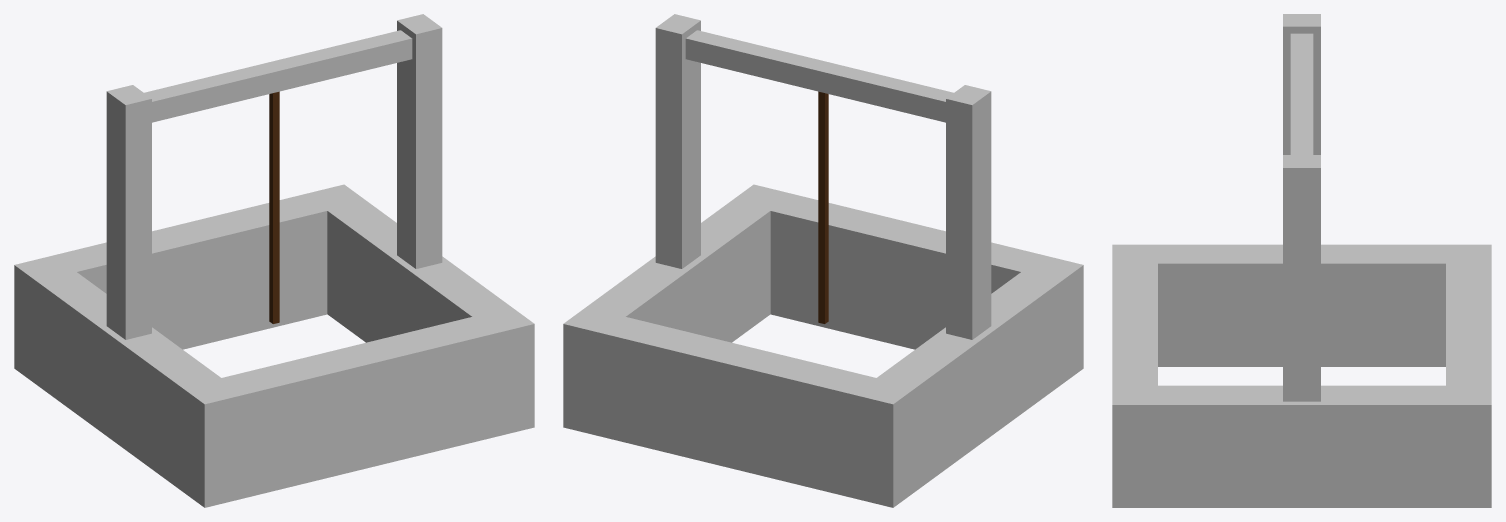
The model's file is well.obj.
The picture shows the model from 3 angles, left to right: view 1: azimuth 30°, elevation 25°; view 2: azimuth 150°, elevation 25°; view 3: azimuth 270°, elevation 25°; orthographic projection.
Visible parts, largest first — view 1: Rim.001, Rim, Rim.002, Rim.003, Posts, Posts.001, Bar, Rope [hang]; view 2: Rim, Rim.001, Rim.002, Rim.003, Posts, Posts.001, Bar, Rope [hang]; view 3: Rim.003, Rim.002, Rim, Rim.001, Posts.001, Bar, Posts.
Boxes of the visible parts, x1,y1,x2,y2 form: Rim.001: [182, 307, 534, 507]; Rim: [14, 184, 366, 384]; Rim.002: [37, 272, 220, 490]; Rim.003: [327, 201, 511, 342]; Posts: [106, 85, 151, 339]; Posts.001: [397, 14, 442, 268]; Bar: [110, 30, 412, 129]; Rope [hang]: [269, 91, 279, 323]; Rim: [563, 307, 915, 507]; Rim.001: [731, 184, 1083, 384]; Rim.002: [877, 272, 1060, 490]; Rim.003: [586, 201, 770, 342]; Posts: [946, 85, 991, 339]; Posts.001: [655, 14, 700, 268]; Bar: [685, 30, 987, 129]; Rope [hang]: [818, 91, 828, 323]; Rim.003: [1158, 385, 1445, 507]; Rim.002: [1158, 244, 1445, 366]; Rim: [1446, 244, 1491, 507]; Rim.001: [1112, 244, 1157, 507]; Posts.001: [1283, 155, 1320, 401]; Bar: [1290, 33, 1313, 194]; Posts: [1283, 14, 1320, 154].
Bounding box in the file's own units: 1 × 0.98 × 1.
